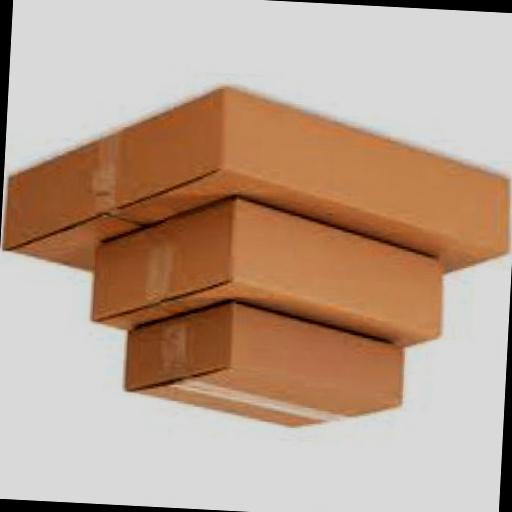cardboard: (2, 75, 512, 299), (92, 186, 449, 354), (122, 295, 412, 438)
